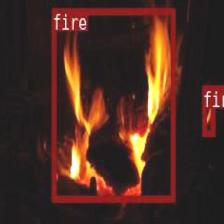fire: (51, 7, 174, 201), (202, 85, 214, 134)
